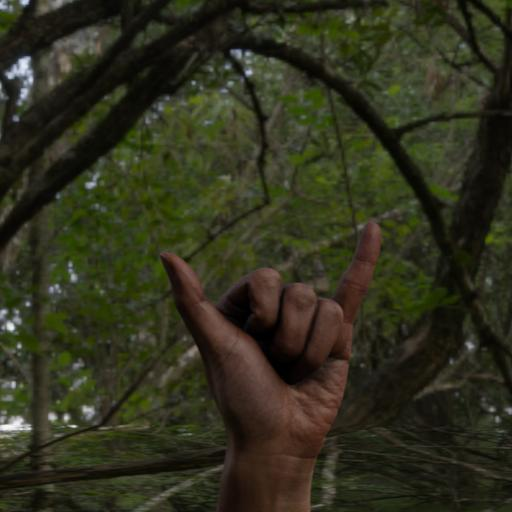Y: (156, 218, 390, 456)
